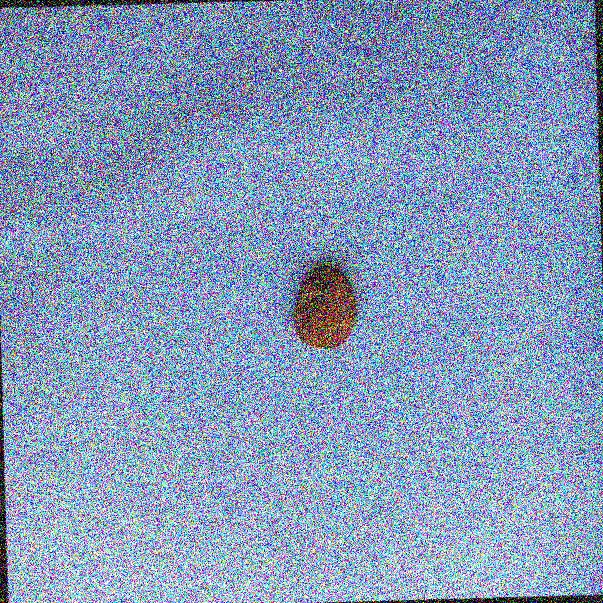grade3: (287, 259, 360, 354)
